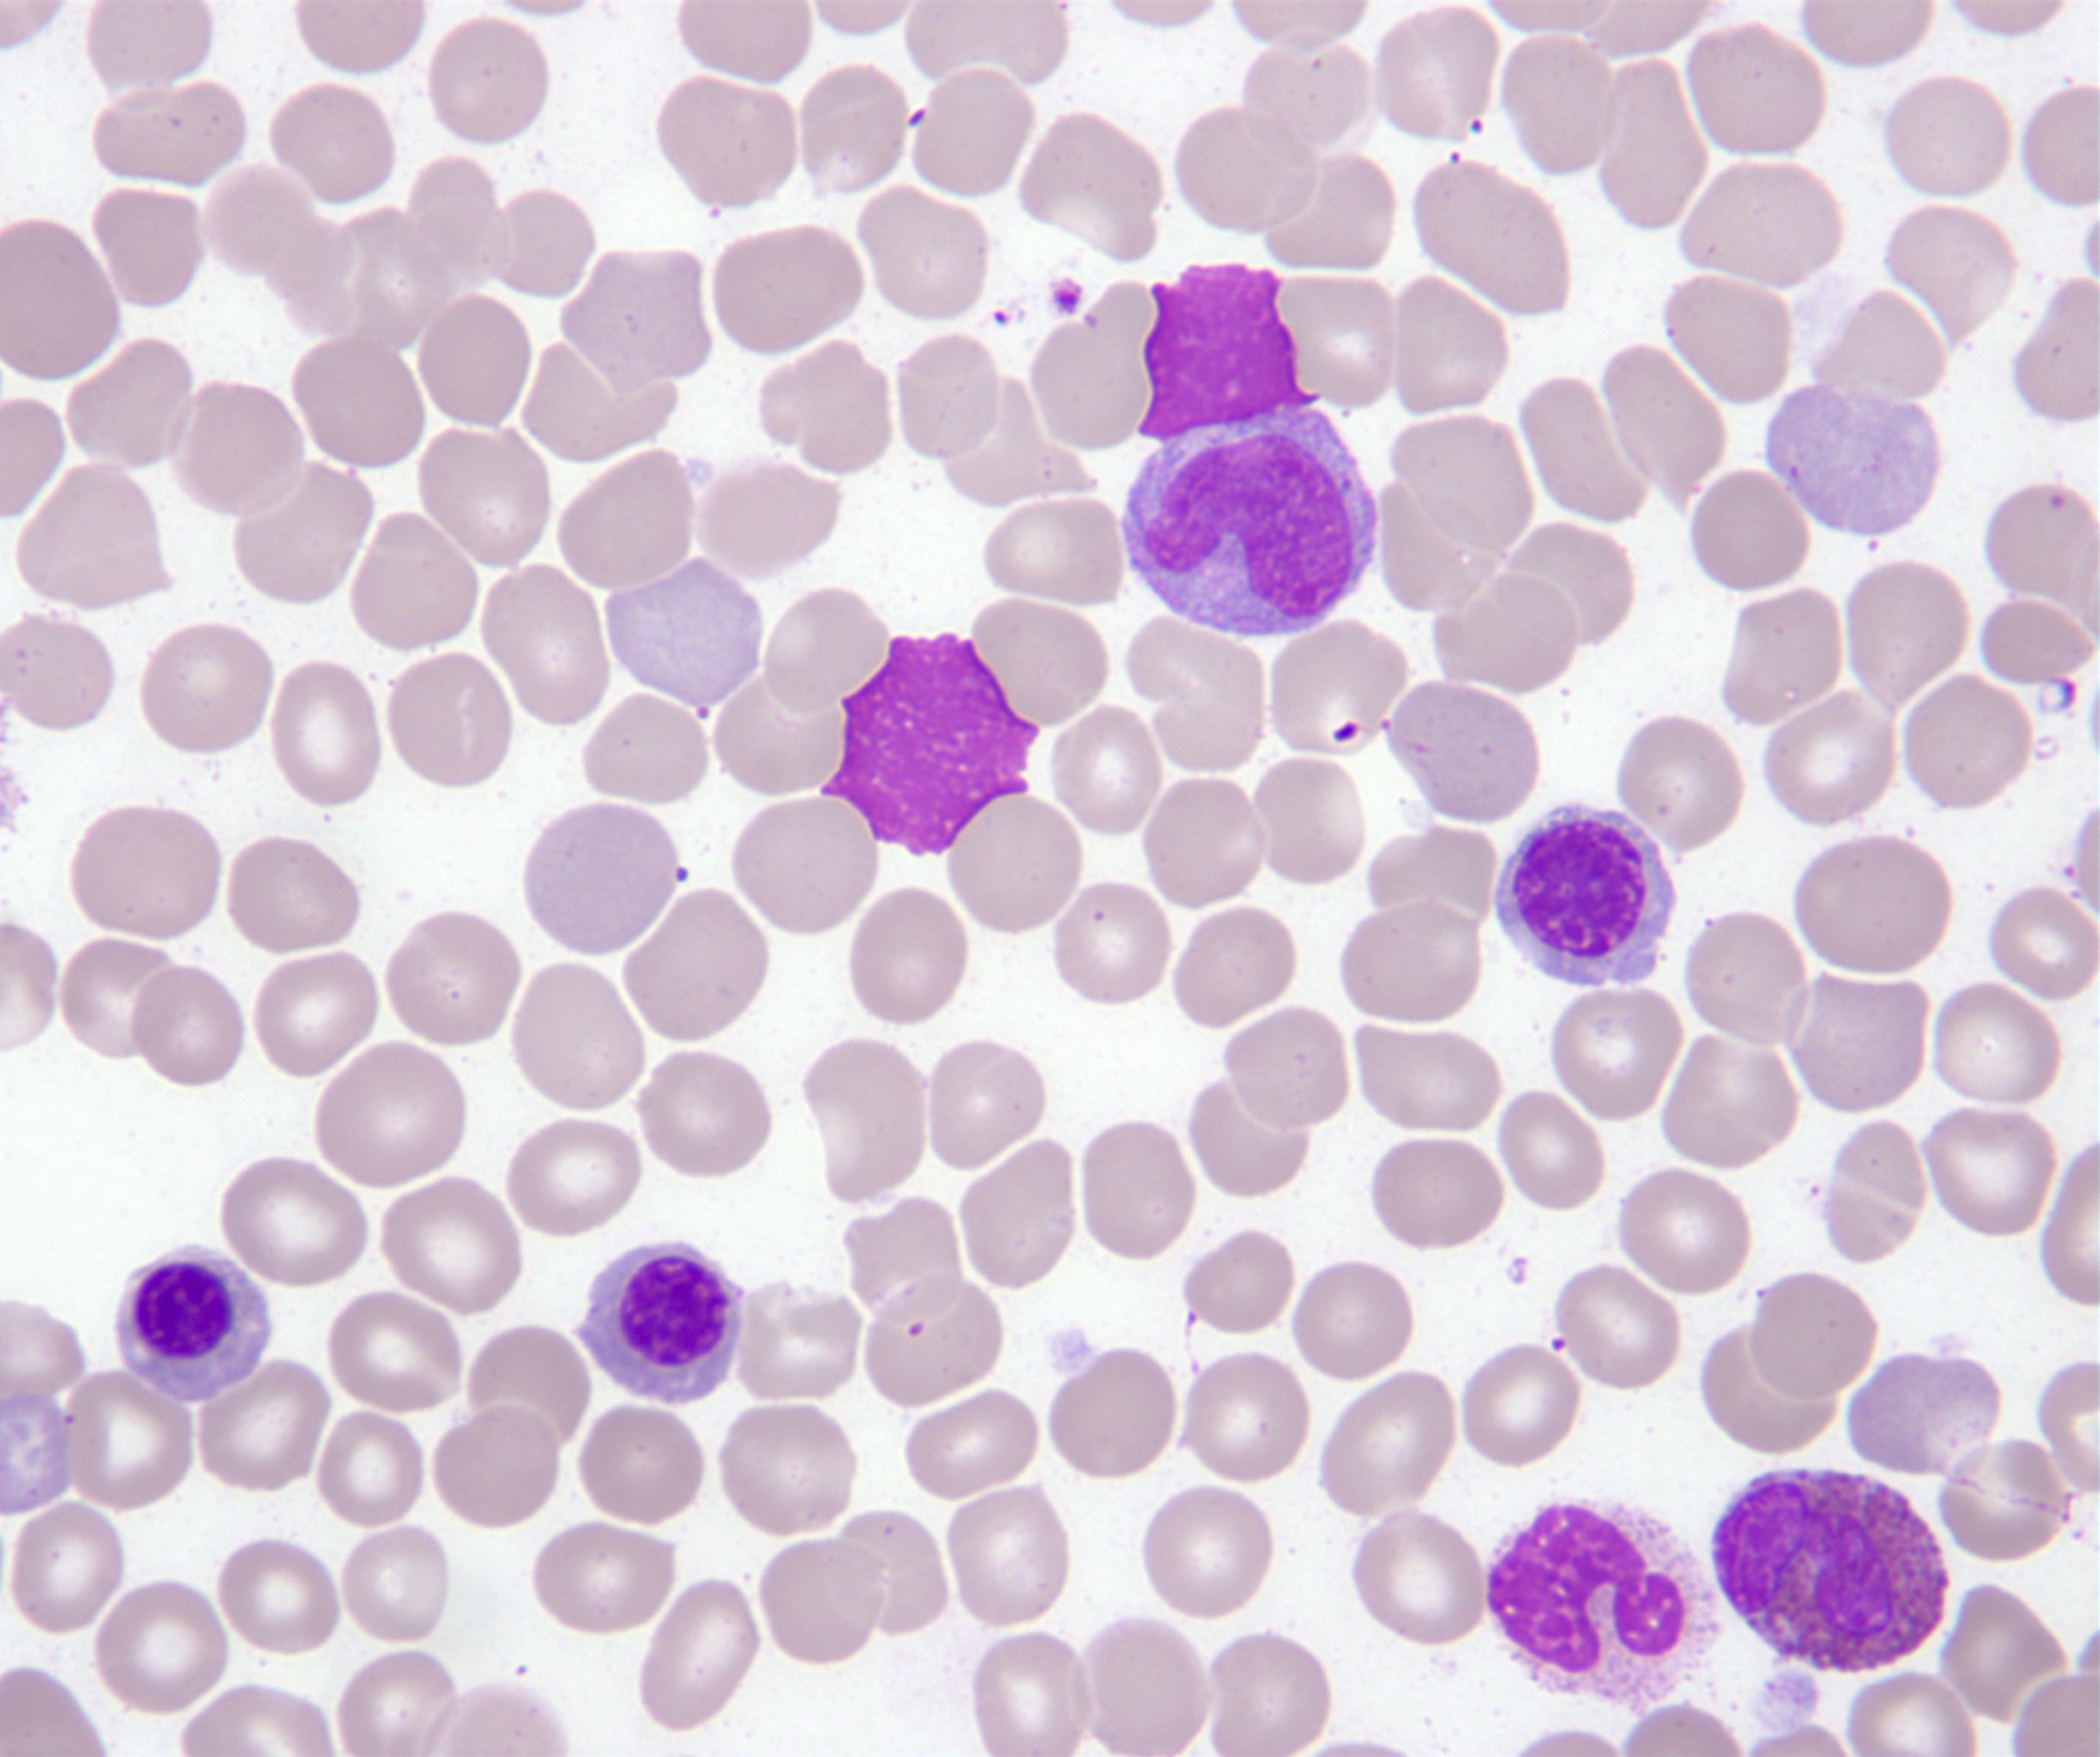23: (1497, 806, 1674, 984)
24: (579, 1244, 745, 1405), (119, 1246, 272, 1401)
42: (1122, 410, 1373, 635)
E3: (1716, 1471, 1950, 1672)
x: (822, 635, 1036, 855), (1488, 1499, 1711, 1705), (1141, 265, 1317, 441)
